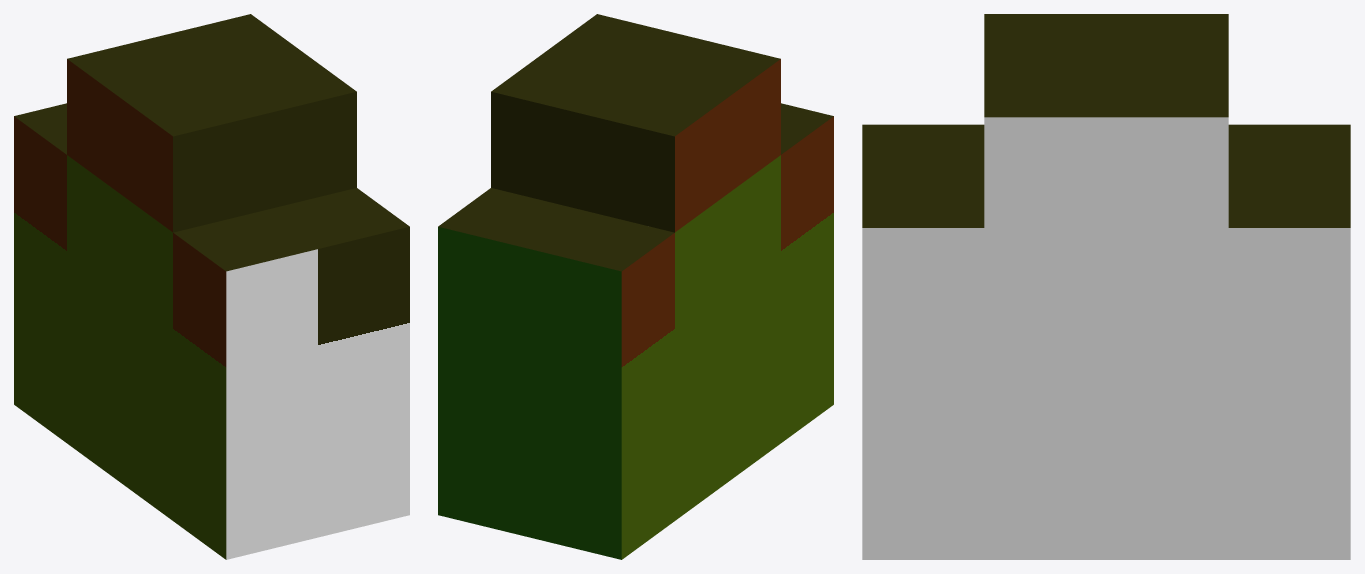
Rendered from block_32.fbx.
3 views of the same model, side by side, from view 1: azimuth 30°, elevation 25°; view 2: azimuth 150°, elevation 25°; view 3: azimuth 270°, elevation 25° (orthographic). The views are drawn at different scales.
Visible parts, largest first — view 1: box; view 2: box; view 3: box.
Part boxes in pixels (x1,y1,x2,y2): box: (14,14,409,559); box: (438,14,833,559); box: (862,14,1350,559).
Bounding box in the file's own units: 2 × 4 × 4.
1 material, 1 textured.
